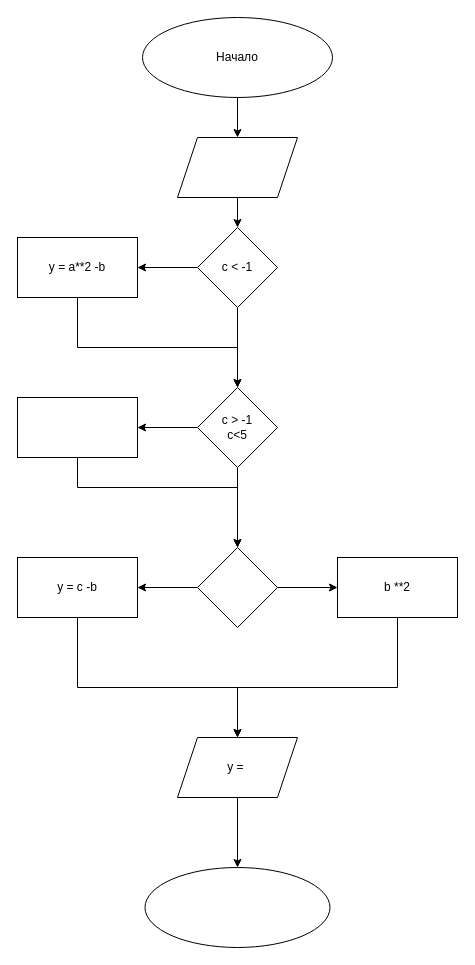
This 475x965 diagram has some shape labels left out. Each missing label, with the box of its shape:
c >= 5 c<10: (196, 546, 278, 628)
y = a +b: (16, 396, 138, 458)
Ввод a,b,c: (176, 136, 298, 198)
Конец: (144, 866, 330, 948)
